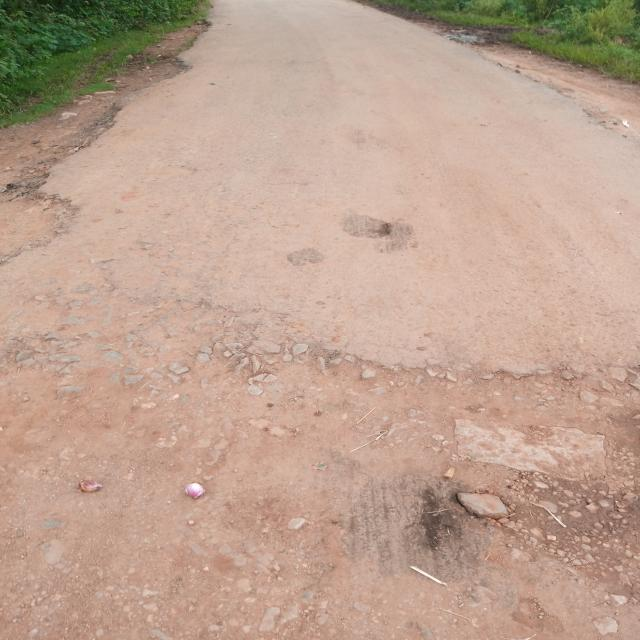pothole1: (337, 212, 397, 241), (280, 245, 327, 267)
